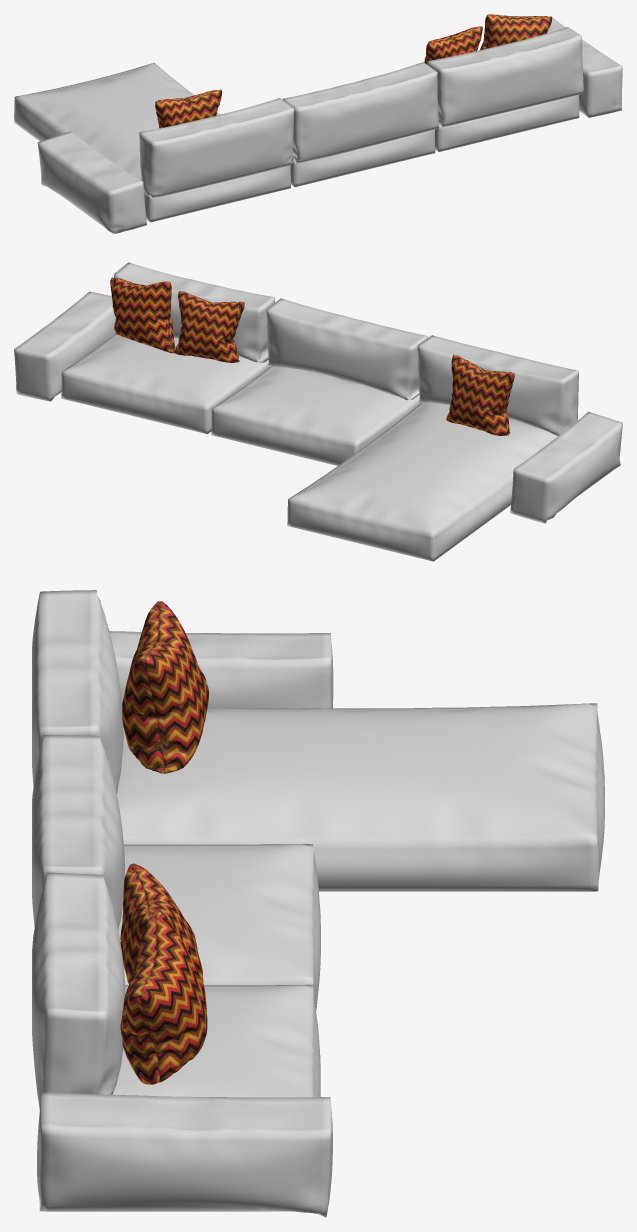
Rendered from sofa.glb.
3 renders of one model, top to bottom at view 1: azimuth 30°, elevation 25°; view 2: azimuth 150°, elevation 25°; view 3: azimuth 270°, elevation 25°, orthographic. The views are drawn at different scales.
Visible parts, largest first — view 1: sofa_seat_2, sofa_back_0, sofa_back_2, sofa_back_1, sofa_arm_0, sofa_seat_1, sofa_seat_0, sofa_arm_1, sofa_cushion_a, sofa_cushion_c, sofa_cushion_b; view 2: sofa_seat_2, sofa_seat_0, sofa_seat_1, sofa_back_1, sofa_back_0, sofa_arm_0, sofa_arm_1, sofa_back_2, sofa_cushion_c, sofa_cushion_a, sofa_cushion_b; view 3: sofa_seat_2, sofa_arm_1, sofa_seat_0, sofa_back_2, sofa_seat_1, sofa_back_0, sofa_back_1, sofa_arm_0, sofa_cushion_c, sofa_cushion_a, sofa_cushion_b.
Boxes of the visible parts, box(x1,y1,x2,y2) form: sofa_seat_2: box(14, 63, 290, 222); sofa_back_0: box(139, 98, 294, 197); sofa_back_2: box(427, 27, 583, 127); sofa_back_1: box(282, 62, 438, 164); sofa_arm_0: box(37, 131, 146, 233); sofa_seat_1: box(435, 95, 579, 151); sofa_seat_0: box(290, 129, 435, 187); sofa_arm_1: box(547, 16, 622, 117); sofa_cushion_a: box(480, 14, 551, 49); sofa_cushion_c: box(155, 89, 222, 128); sofa_cushion_b: box(424, 26, 482, 64); sofa_seat_2: box(287, 402, 557, 561); sofa_seat_0: box(211, 366, 419, 465); sofa_seat_1: box(61, 333, 268, 433); sofa_back_1: box(266, 298, 427, 400); sofa_back_0: box(417, 335, 578, 435); sofa_arm_0: box(510, 412, 622, 523); sofa_arm_1: box(14, 291, 115, 401); sofa_back_2: box(113, 262, 274, 362); sofa_cushion_c: box(446, 355, 514, 435); sofa_cushion_a: box(110, 277, 175, 353); sofa_cushion_b: box(173, 291, 244, 362); sofa_seat_2: box(117, 703, 604, 891); sofa_arm_1: box(37, 1092, 332, 1217); sofa_seat_0: box(118, 844, 320, 1010); sofa_back_2: box(32, 872, 125, 1109); sofa_seat_1: box(112, 984, 320, 1097); sofa_back_0: box(32, 590, 123, 793); sofa_back_1: box(32, 735, 124, 929); sofa_arm_0: box(109, 631, 333, 708); sofa_cushion_c: box(122, 601, 208, 773); sofa_cushion_a: box(120, 911, 207, 1084); sofa_cushion_b: box(120, 863, 203, 984).
Bounding box in the file's own units: 4.26 × 0.7984 × 2.01.
Materials: 1 (1 with a texture image).
